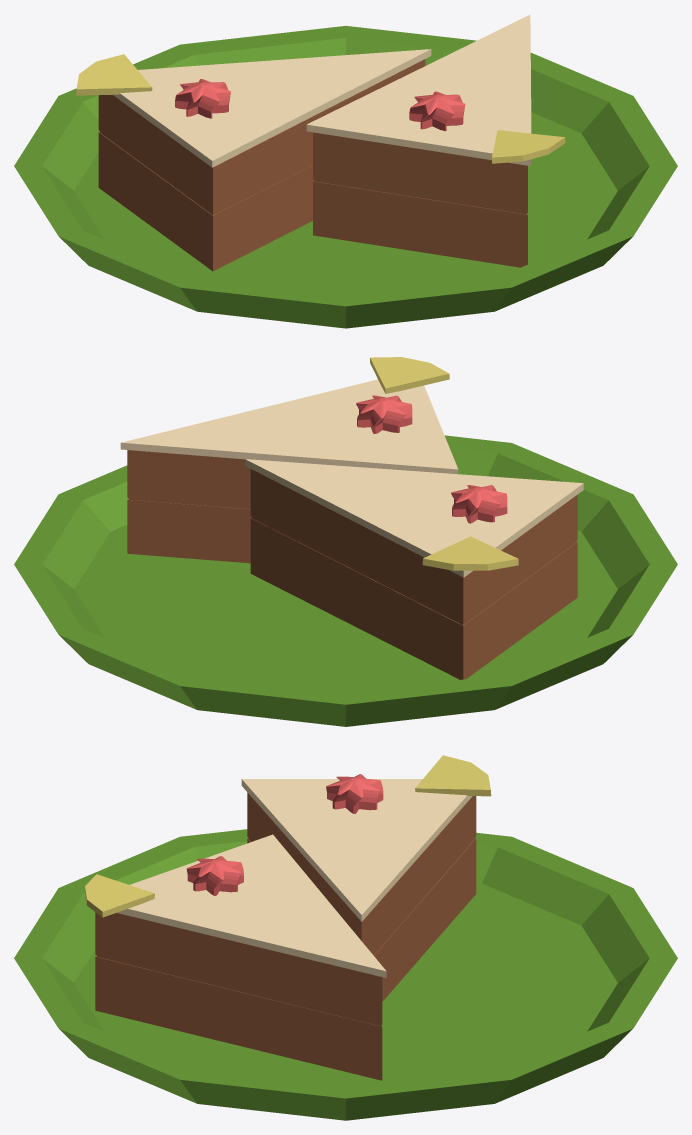
File: ceak.fbx
3 renders of one model, top to bottom at view 1: azimuth 30°, elevation 25°; view 2: azimuth 150°, elevation 25°; view 3: azimuth 270°, elevation 25°, orthographic.
Parts seen in each view (by area): view 1: Cylinder; view 2: Cylinder; view 3: Cylinder.
Part boxes in pixels (<box>): Cylinder: <box>14,15,677,328</box>; Cylinder: <box>14,357,677,726</box>; Cylinder: <box>14,755,677,1120</box>.
Size of the model in its own units: 0.3146 by 0.078 by 0.3146.
